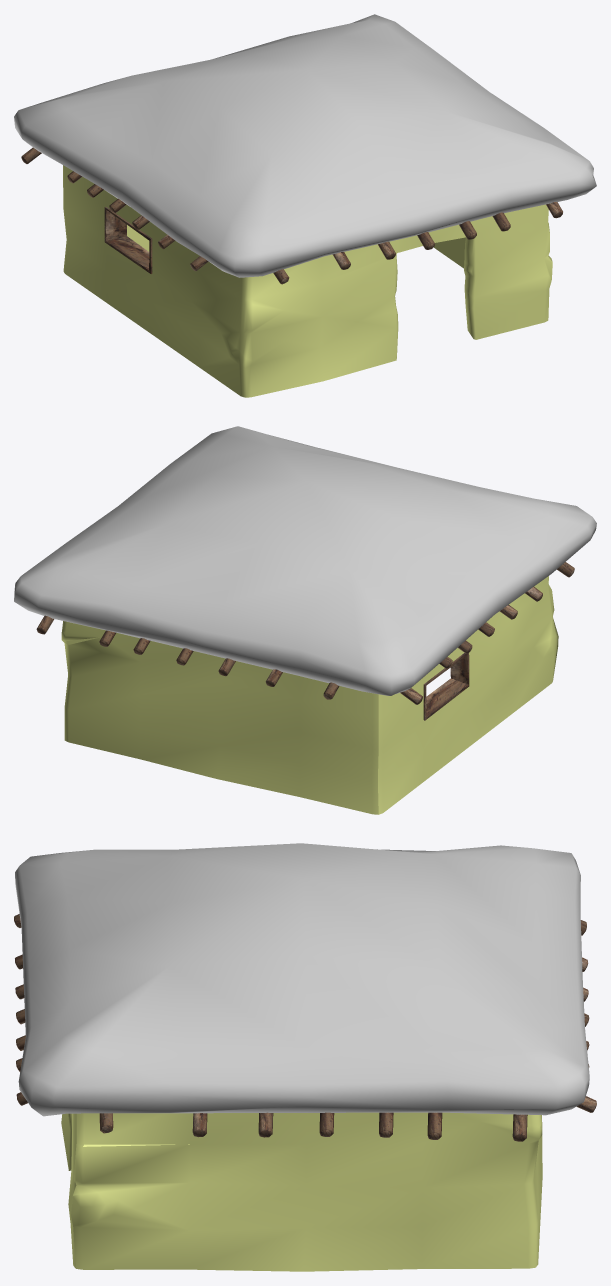
The model's file is SquareHut.FBX.
3 renders of one model, top to bottom at view 1: azimuth 30°, elevation 25°; view 2: azimuth 150°, elevation 25°; view 3: azimuth 270°, elevation 25°, orthographic. The views are drawn at different scales.
Parts seen in each view (by area): view 1: SquareHut; view 2: SquareHut; view 3: SquareHut.
Part boxes in pixels (<box>): SquareHut: <box>14,14,596,397</box>; SquareHut: <box>14,426,596,814</box>; SquareHut: <box>14,843,596,1271</box>.
Size of the model in its own units: 8.85 by 4.89 by 8.78.
